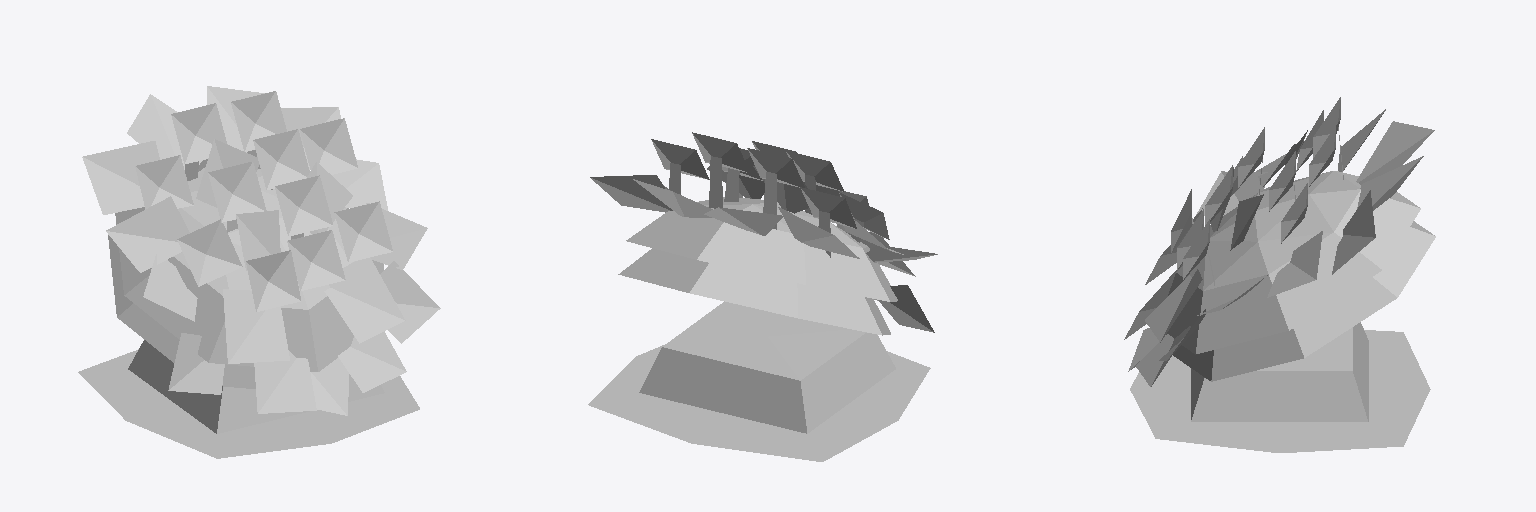
File: karafuruueki.obj
3 views of the same model, side by side, from view 1: azimuth 30°, elevation 25°; view 2: azimuth 150°, elevation 25°; view 3: azimuth 270°, elevation 25° (orthographic).
Visible parts, largest first — view 1: polySurface1; view 2: polySurface1; view 3: polySurface1.
Part boxes in pixels (left/top/right/bottom): polySurface1: left=78, top=86, right=440, bottom=458; polySurface1: left=588, top=132, right=937, bottom=461; polySurface1: left=1124, top=97, right=1435, bottom=452.
Bounding box in the file's own units: 2.58 × 2.3 × 2.46.